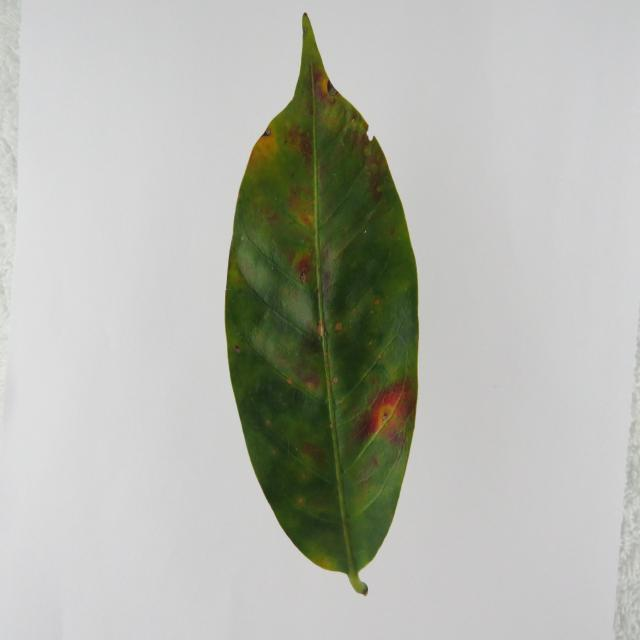DeficienciaNutricional-Fosforo: (225, 15, 419, 595)
